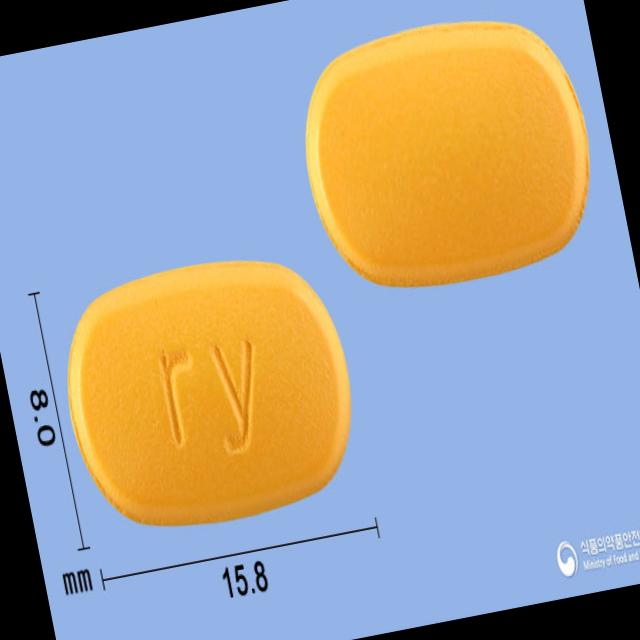Clarithromycin Tab- Reyon: (45, 237, 373, 550)
